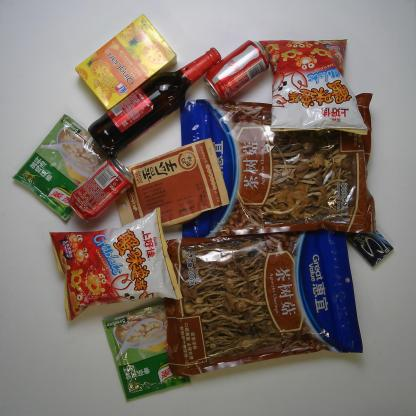Alcohol: (88, 48, 222, 158)
Dessert: (76, 14, 175, 111)
Dried Food: (160, 225, 363, 375), (178, 93, 376, 234), (113, 138, 230, 232)
Drink: (68, 159, 136, 221), (205, 39, 271, 102)
Gum: (344, 217, 393, 265)
Puffed Food: (49, 208, 182, 322), (258, 38, 369, 134)
Seasoner: (11, 114, 118, 222), (100, 304, 191, 402)
